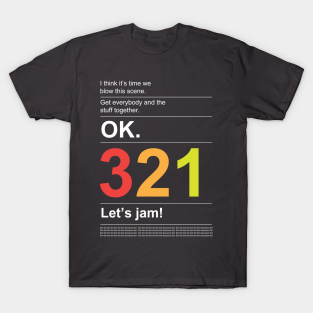design: (97, 78, 215, 238)
